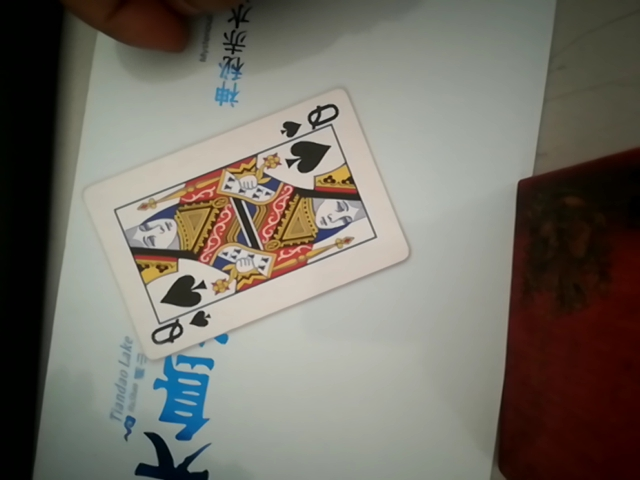ht q: (94, 88, 412, 357)
